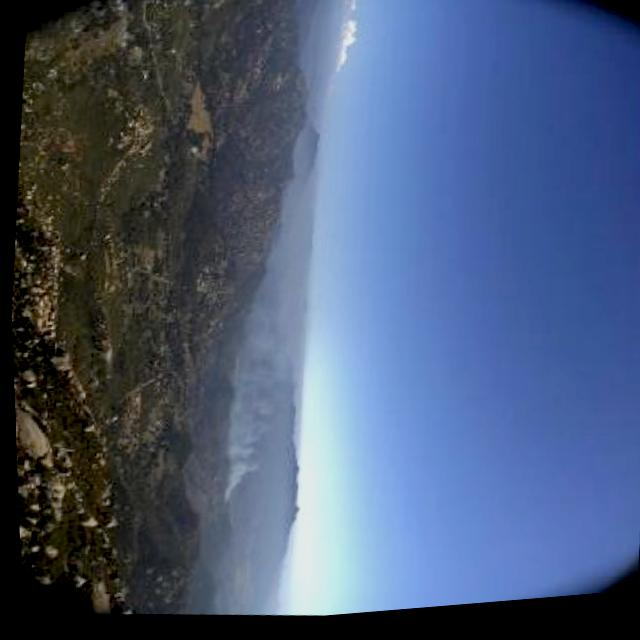Smoke: (208, 320, 293, 510)
